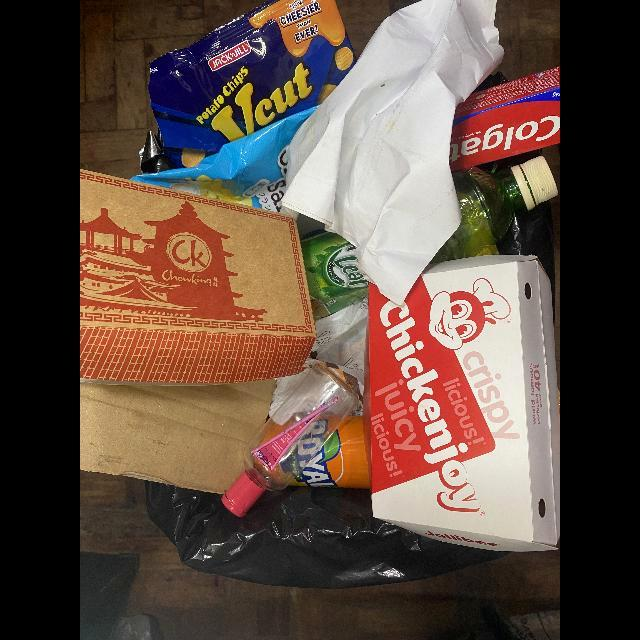cardboard: (368, 254, 560, 552), (80, 168, 317, 385), (450, 67, 560, 171)
food_wrapper: (140, 0, 358, 177), (132, 106, 320, 210)
paper: (281, 0, 505, 311)
plastic_bottle: (305, 153, 557, 321), (220, 364, 359, 521)
